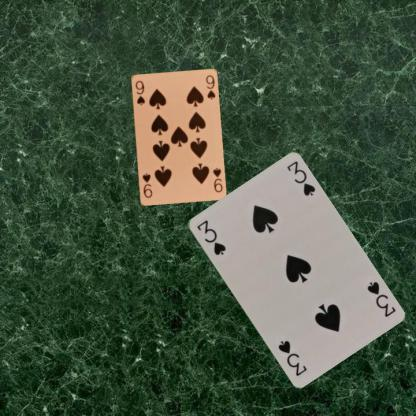3s: (194, 217, 227, 257), (364, 278, 397, 318)
9s: (210, 165, 224, 194), (133, 78, 145, 106)
